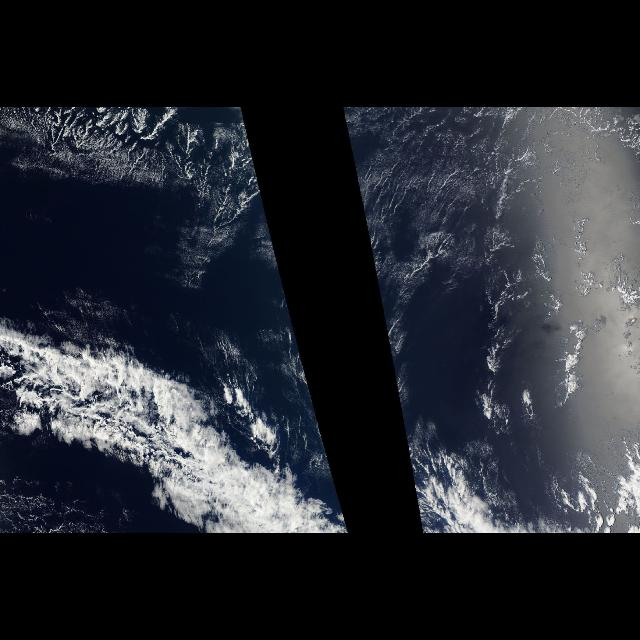Fish: (1, 285, 352, 533)
Gravel: (21, 108, 186, 190)
Sugar: (19, 109, 285, 295), (342, 109, 590, 295)
